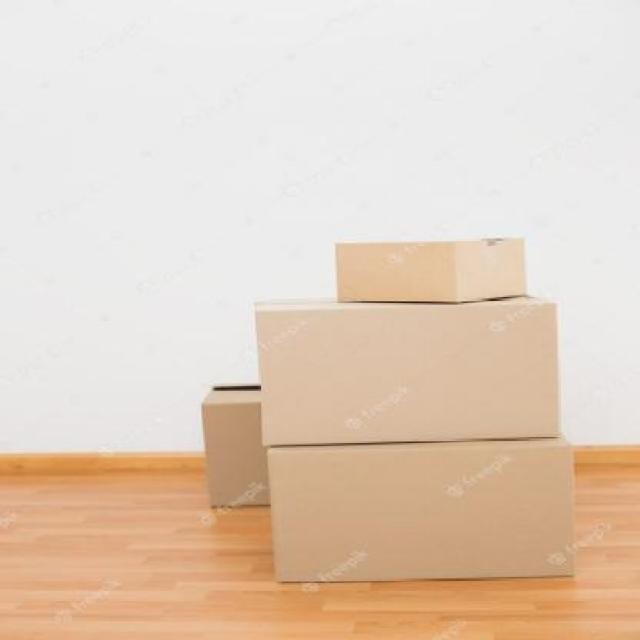box: (262, 431, 582, 581), (252, 295, 560, 444), (333, 233, 530, 303), (199, 384, 272, 508)
